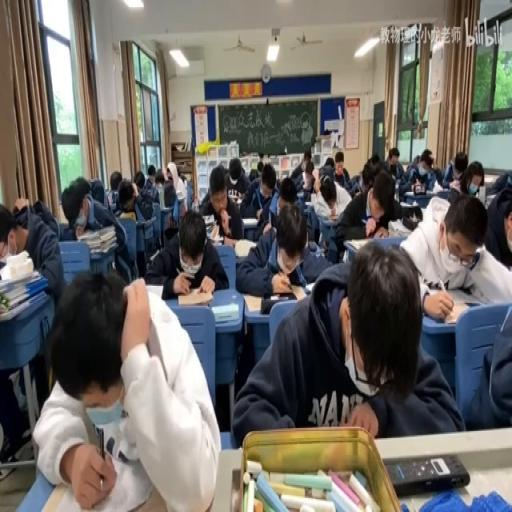calculator: (34, 476, 164, 512), (244, 283, 306, 311), (442, 284, 486, 310), (176, 287, 213, 306), (210, 300, 238, 322), (234, 236, 256, 258), (387, 218, 412, 236), (399, 205, 421, 220), (144, 283, 163, 299), (346, 238, 370, 250), (204, 215, 217, 236), (155, 182, 165, 208), (222, 232, 238, 246), (119, 209, 136, 221), (138, 215, 156, 226), (206, 233, 222, 245), (476, 185, 485, 203), (242, 214, 258, 224), (303, 282, 317, 292), (266, 294, 288, 300), (229, 196, 243, 205), (325, 213, 339, 222), (304, 196, 316, 206), (296, 189, 306, 199), (418, 189, 434, 194)
paper: (32, 265, 218, 509), (232, 240, 454, 442), (0, 194, 62, 460), (400, 190, 510, 313), (60, 172, 131, 283), (462, 280, 512, 430), (146, 206, 226, 299), (334, 165, 408, 257), (122, 175, 155, 266), (262, 175, 300, 235), (400, 148, 438, 196), (0, 202, 25, 262), (440, 148, 470, 189), (223, 155, 250, 199), (162, 175, 182, 227), (288, 148, 312, 188), (328, 149, 350, 188), (383, 144, 405, 182), (106, 169, 124, 208), (485, 170, 512, 196), (89, 176, 105, 206), (360, 161, 374, 192), (343, 173, 362, 195), (322, 190, 335, 212), (14, 196, 28, 215), (132, 170, 145, 190), (461, 174, 474, 194), (431, 165, 443, 186), (310, 166, 318, 190), (154, 168, 166, 183), (146, 165, 155, 181), (324, 156, 334, 170), (248, 168, 258, 182), (177, 168, 186, 183), (370, 154, 380, 165), (256, 161, 263, 175), (166, 169, 172, 181), (428, 158, 434, 168), (336, 160, 342, 170), (413, 155, 419, 164)
person: (384, 452, 470, 494), (307, 240, 318, 252)
